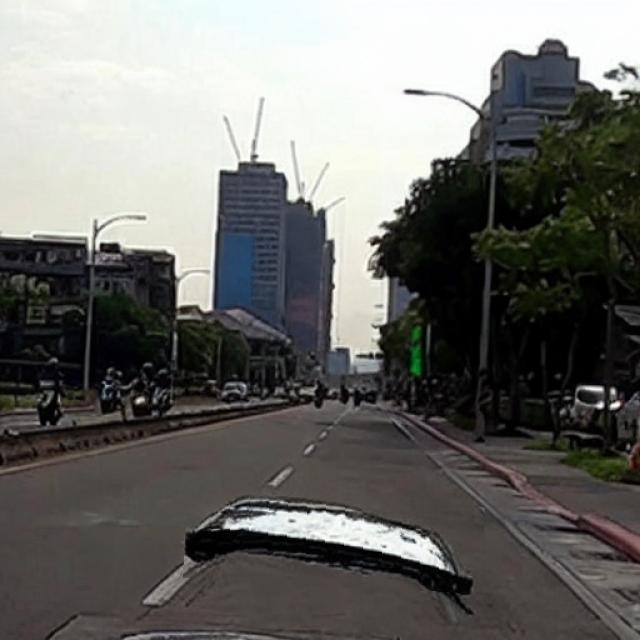puddle: (185, 496, 485, 591)
